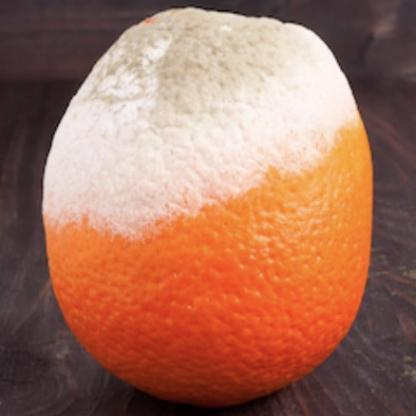rotten: (41, 7, 375, 411)
